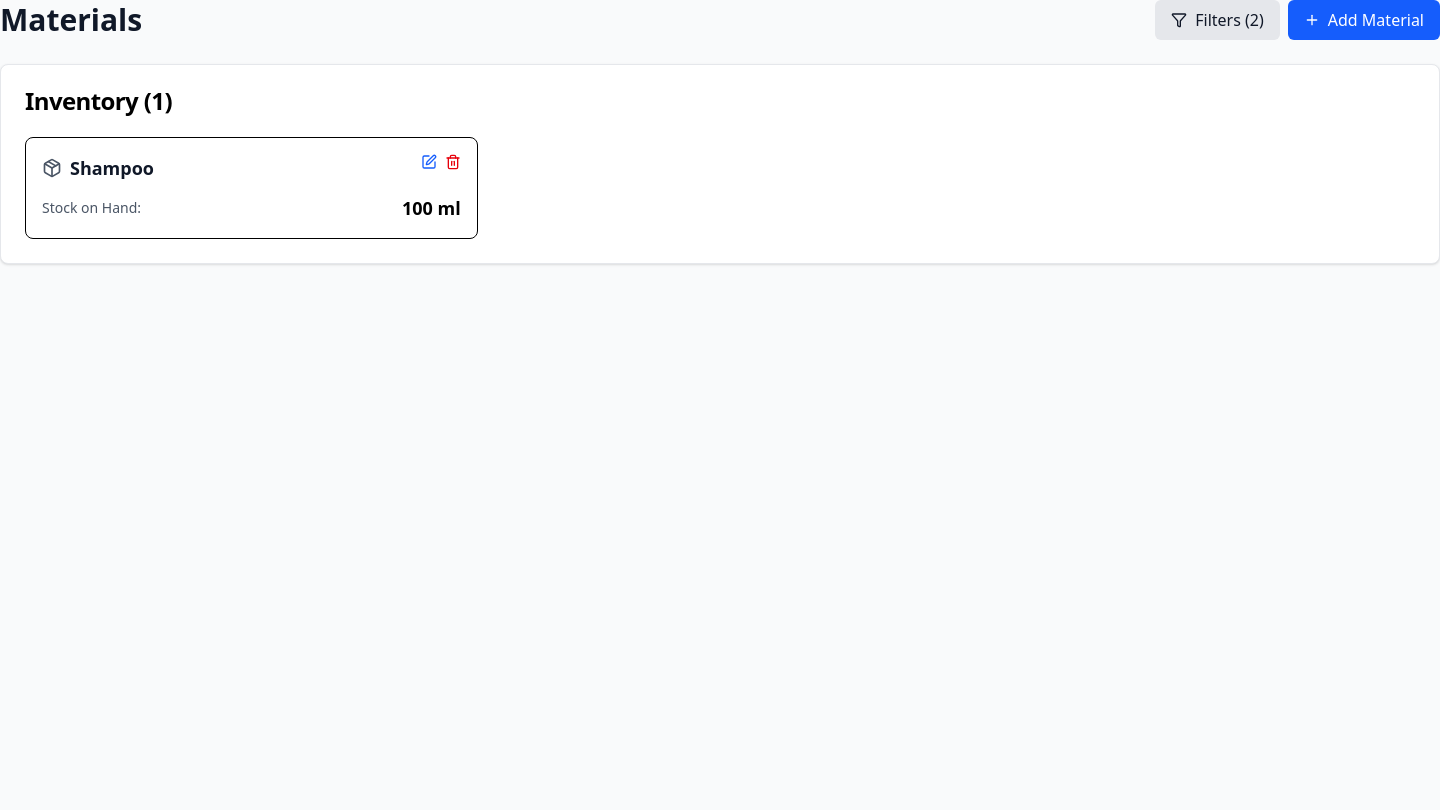
Test: Materials Component › opens edit modal with existing material data
This screenshot has width=1440, height=810.
Expected: the heading "Shampoo" is shown, [70,154,154,182]
// Click edit button using aria-label
Click the button named "Edit Shampoo" at (429, 162), box [421,154,437,170]
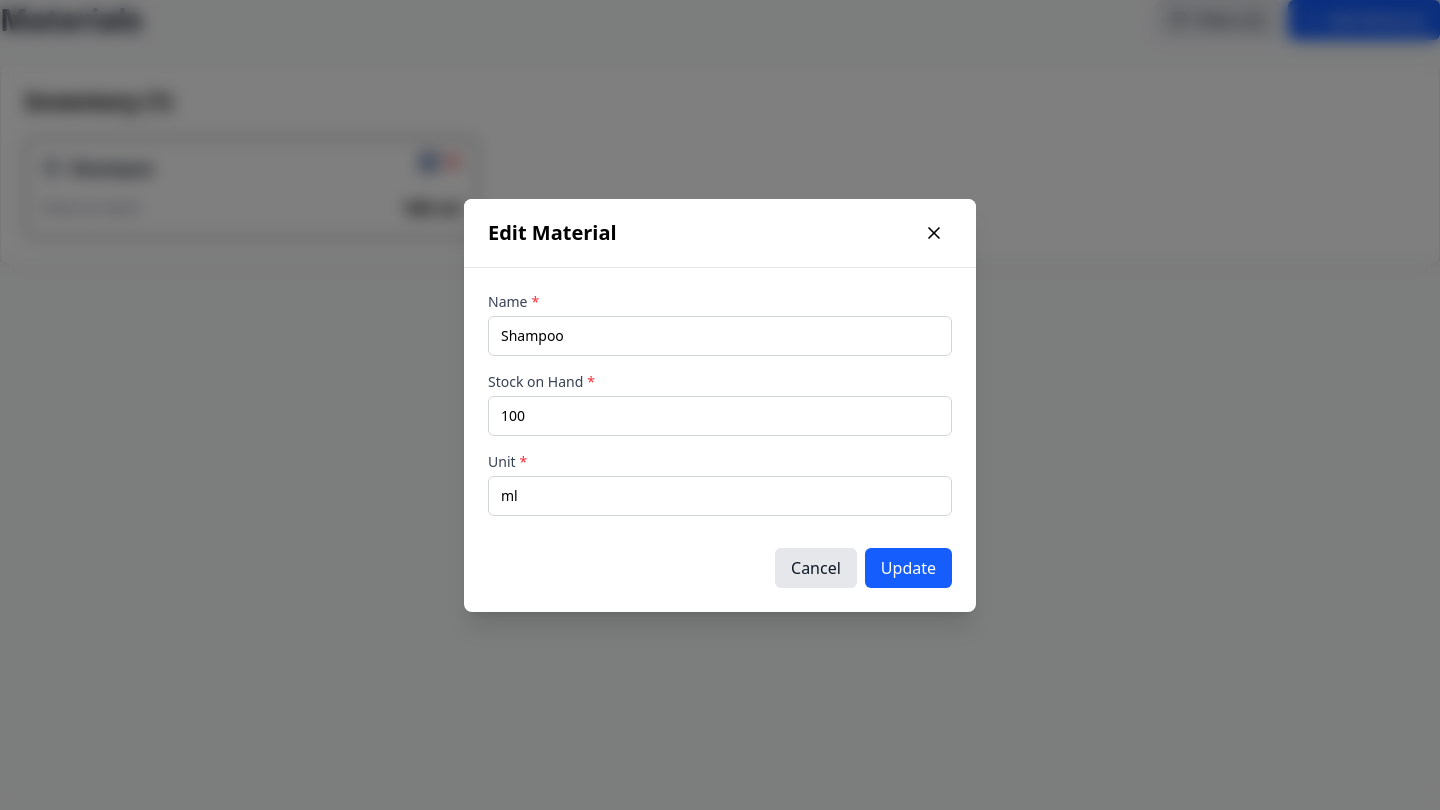
Result: the heading "Edit Material" is shown at [488,218,617,246]
Result: the field showing "Shampoo" is shown at [488,316,952,356]
